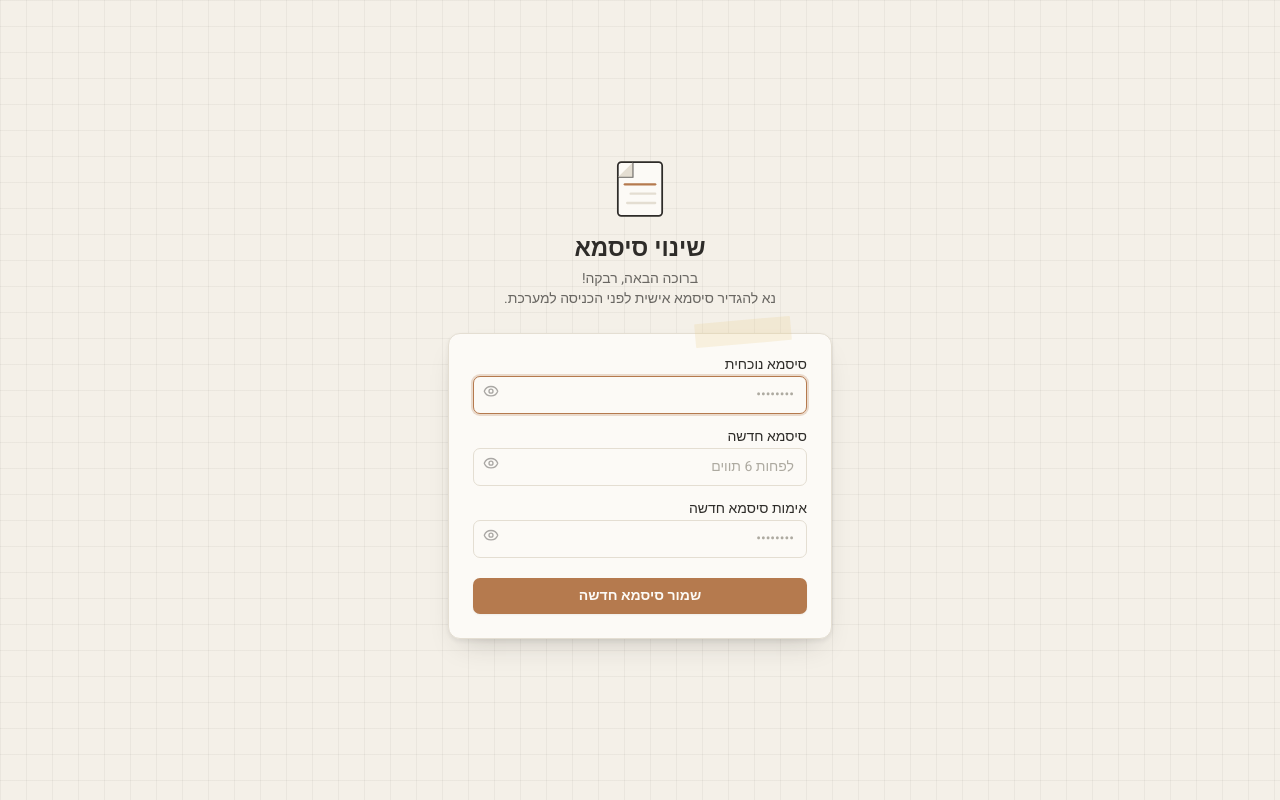
Test case: ChangePasswordPage › validates that passwords match
The width and height of the screenshot is (1280, 800).
Type "oldpass" into the password field labelled "סיסמא נוכחית".
click(640, 395); type("oldpass")  # box [473,376,807,414]
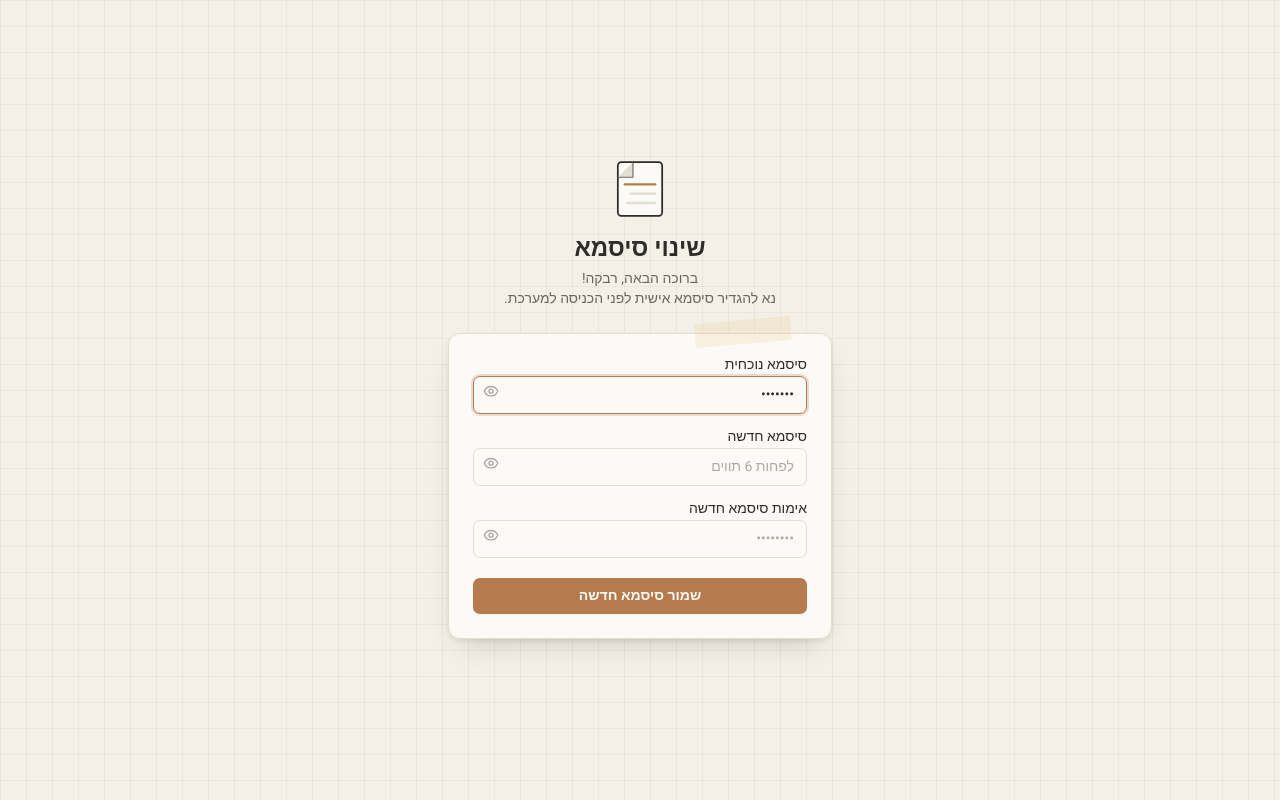
Type "abcdef" into the password field labelled "סיסמא חדשה".
click(640, 467); type("abcdef")  # box [473,448,807,486]
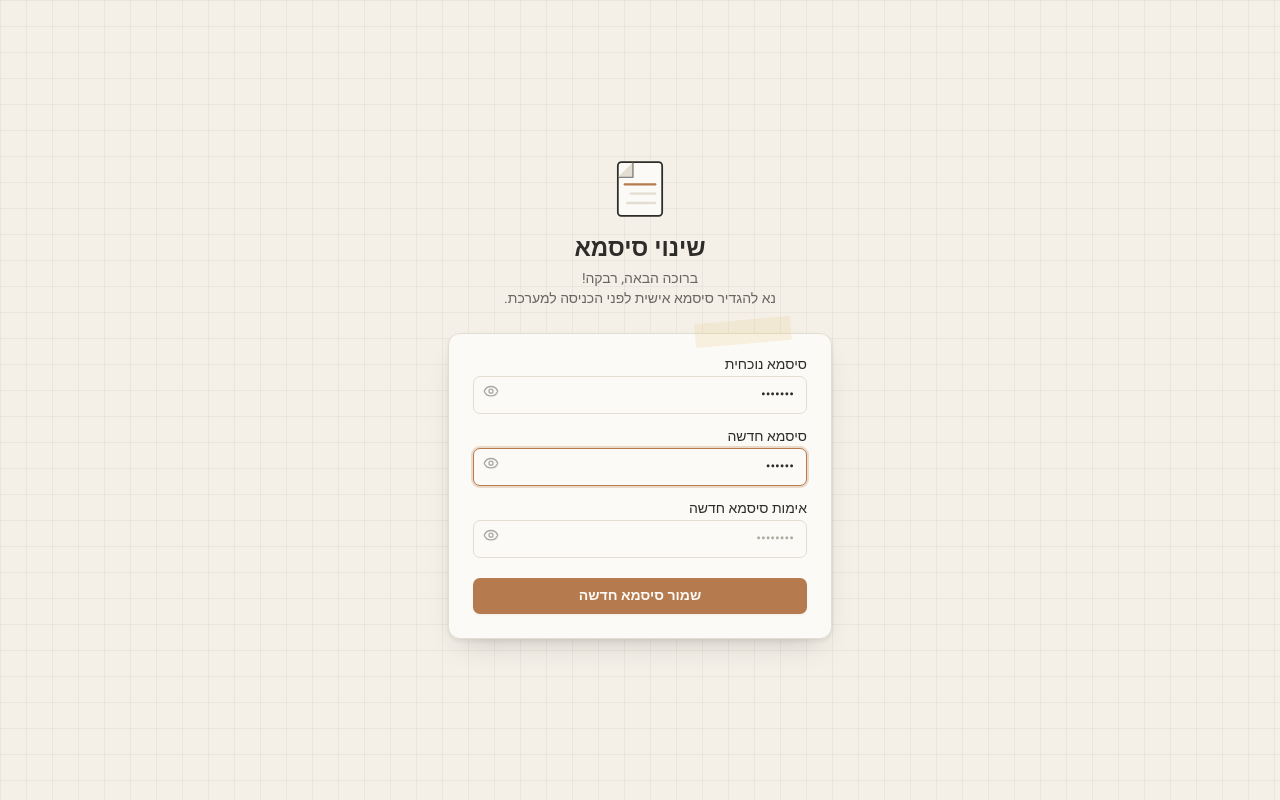
Type "abcdeg" into the password field labelled "אימות סיסמא חדשה".
click(640, 539); type("abcdeg")  # box [473,520,807,558]
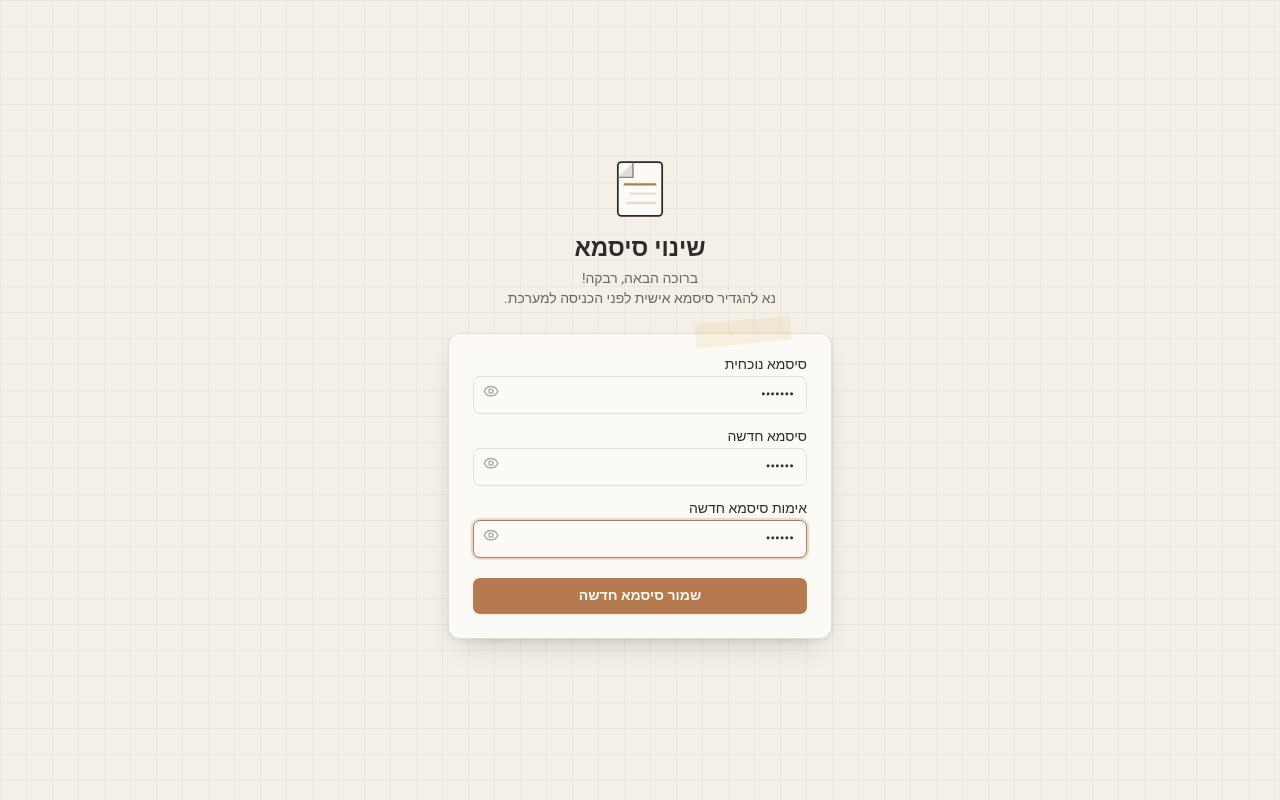
Click the button "שמור סיסמא חדשה".
click(640, 596)  # box [473,578,807,614]
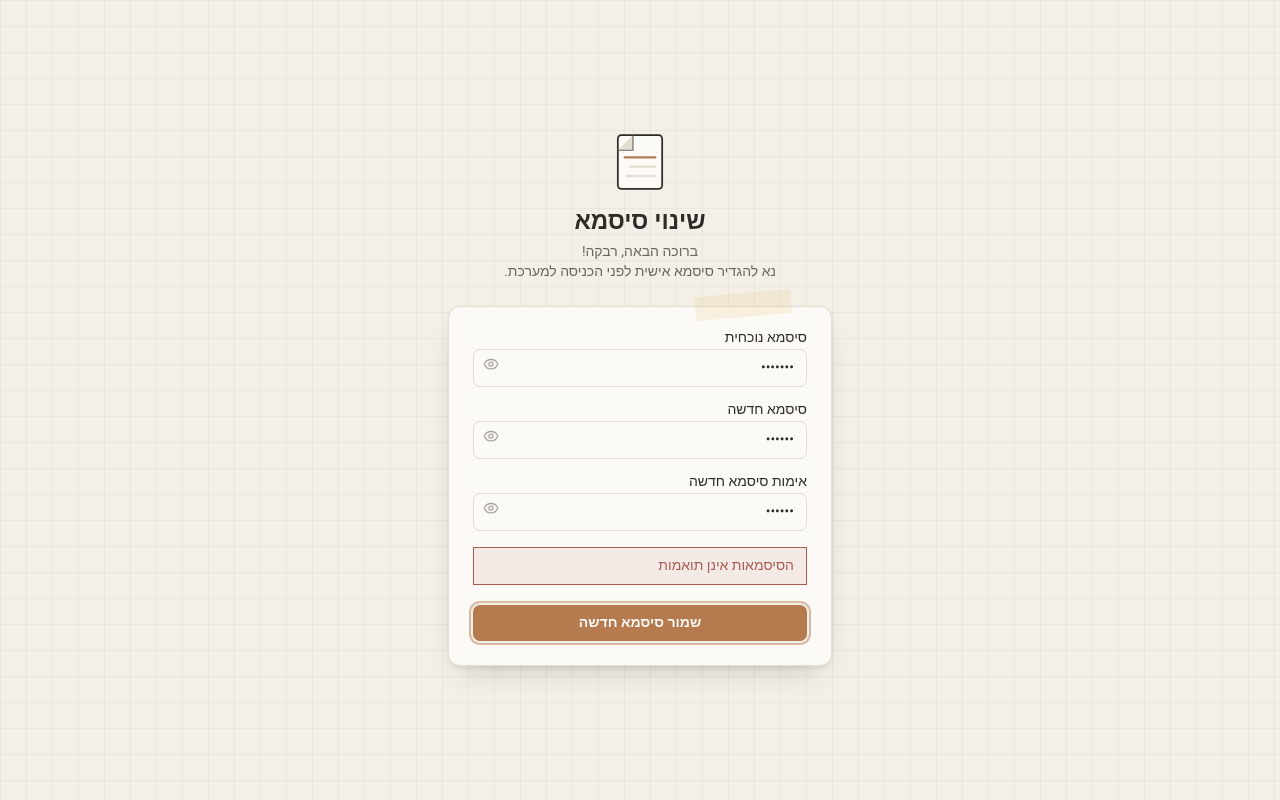
Check: the text "הסיסמאות אינן תואמות" is shown, box [473,547,807,585]
